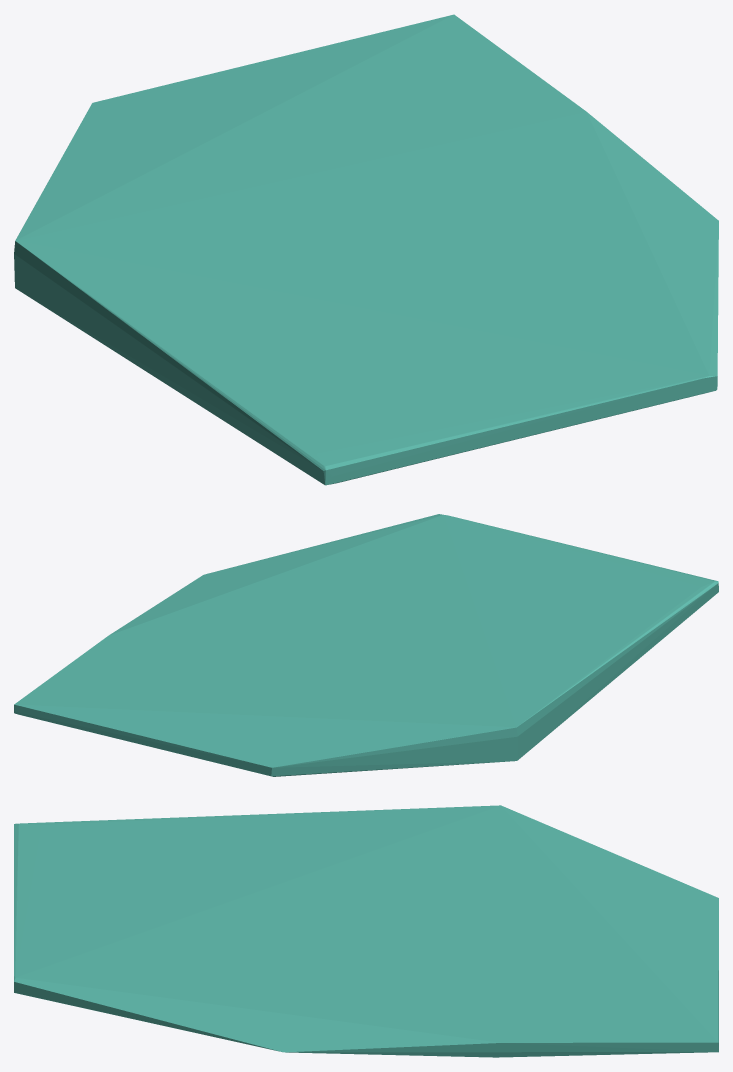
File: wire_machineGuard_a01.glb
3 renders of one model, top to bottom at view 1: azimuth 30°, elevation 25°; view 2: azimuth 150°, elevation 25°; view 3: azimuth 270°, elevation 25°, orthographic. The views are drawn at different scales.
Visible parts, largest first — view 1: geometry_0; view 2: geometry_0; view 3: geometry_0.
Boxes of the visible parts, bbox=[...] form: geometry_0: bbox=[14, 14, 718, 485]; geometry_0: bbox=[14, 514, 718, 776]; geometry_0: bbox=[14, 805, 718, 1057].
Size of the model in its own units: 0.3695 by 0.0292 by 0.48.
